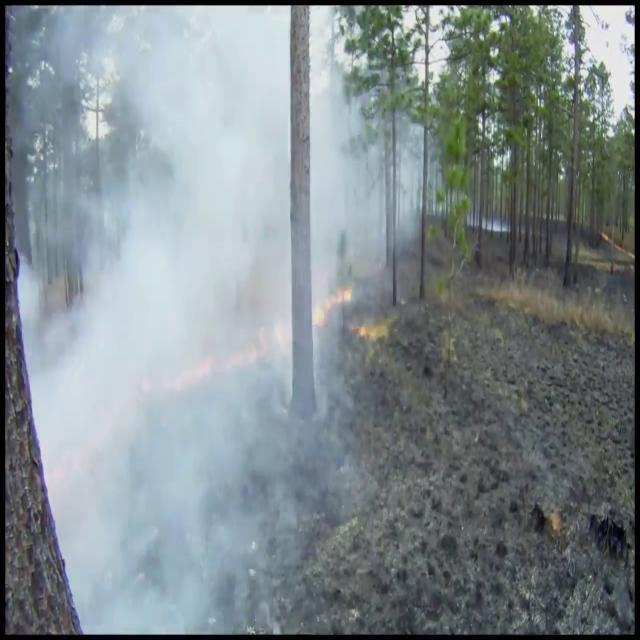Smoke: (31, 7, 402, 630)
